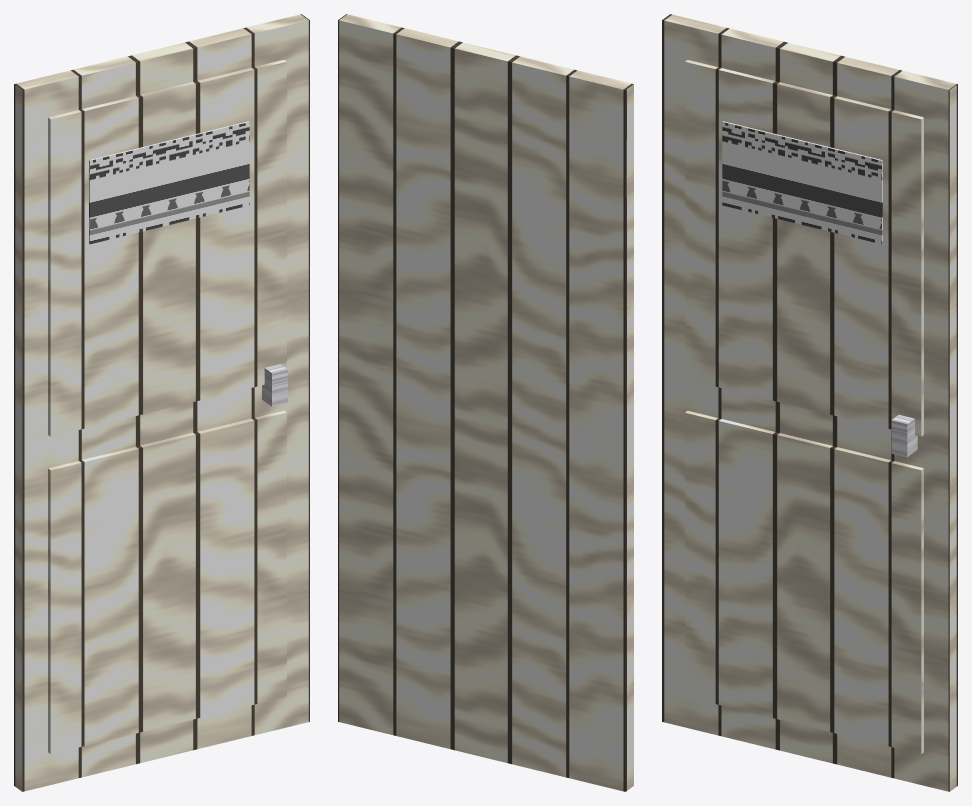
Rendered from porta_magazzino.obj.
The picture shows the model from 3 angles, left to right: view 1: azimuth 30°, elevation 25°; view 2: azimuth 150°, elevation 25°; view 3: azimuth 330°, elevation 25°; orthographic projection.
Parts seen in each view (by area): view 1: legno_001, legno_000, stampa_a_003, metallo_002; view 2: legno_000; view 3: legno_001, legno_000, stampa_a_003, metallo_002.
Part boxes in pixels (box(x1,y1,x2,y2)): legno_001: box(48, 60, 286, 754); legno_000: box(14, 14, 309, 791); stampa_a_003: box(89, 121, 249, 244); metallo_002: box(262, 364, 287, 406); legno_000: box(338, 14, 633, 791); legno_001: box(685, 60, 923, 754); legno_000: box(662, 14, 957, 791); stampa_a_003: box(722, 121, 882, 244); metallo_002: box(891, 415, 917, 457).
Bounding box in the file's own units: 0.9 × 2.1 × 0.1.
Materials: 4 (4 with a texture image).
